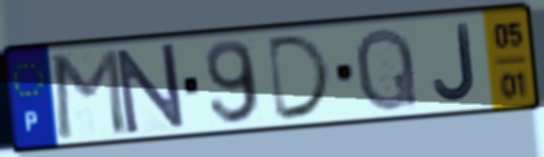9: (202, 37, 263, 126)
D: (265, 30, 337, 124)
J: (431, 20, 480, 105)
M: (51, 45, 130, 142)
N: (112, 40, 188, 138)
Q: (353, 24, 422, 115)
